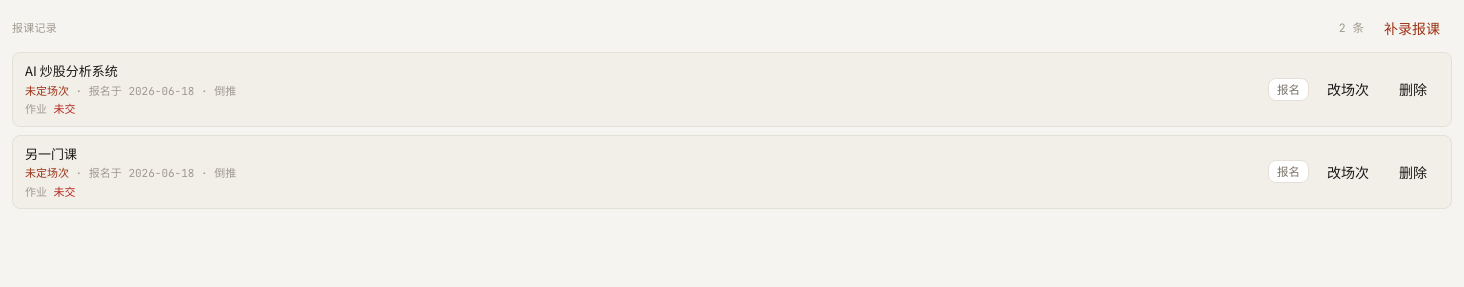
Scenario: EnrollmentRows 的逐条编辑 › 失败说明挂在那一条上，其余条不受影响
Click the button "改场次" in the row of "AI 炒股分析系统" at (1348, 89), box [1315,73,1381,105]
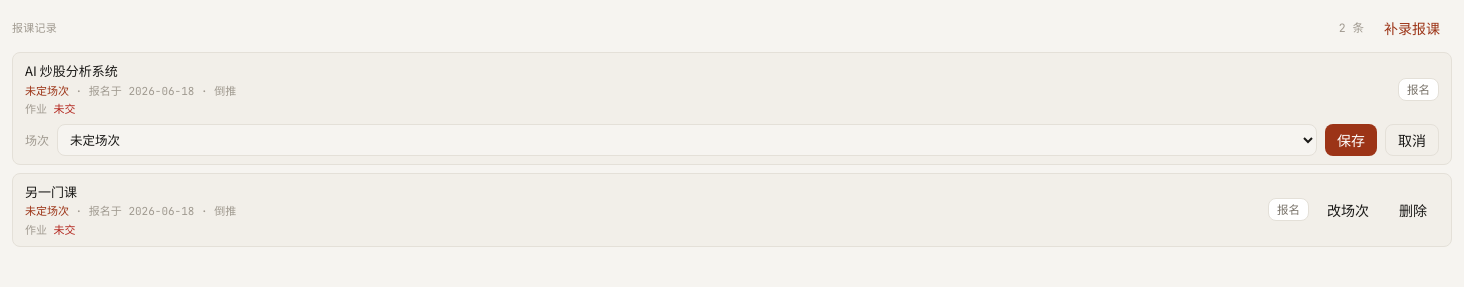
Click the button "保存" at (1351, 140), box [1325,124,1377,156]
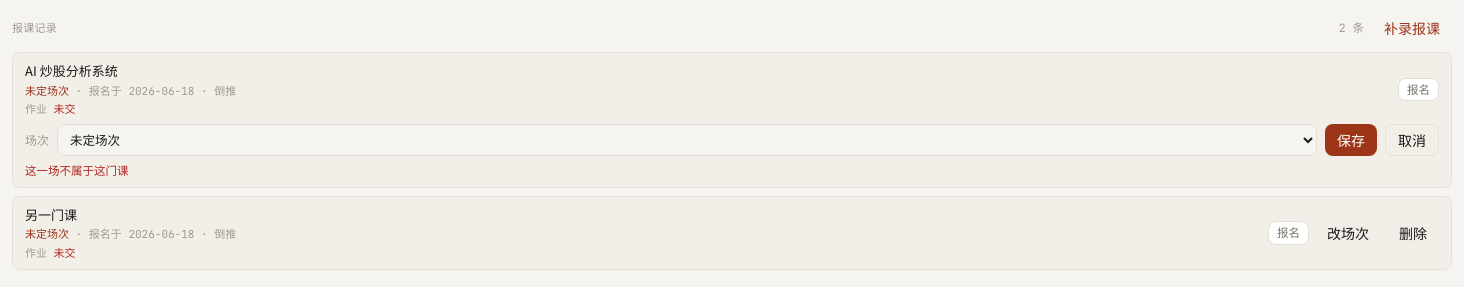
Result: the text "这一场不属于这门课" is shown at [25,162,128,178]
